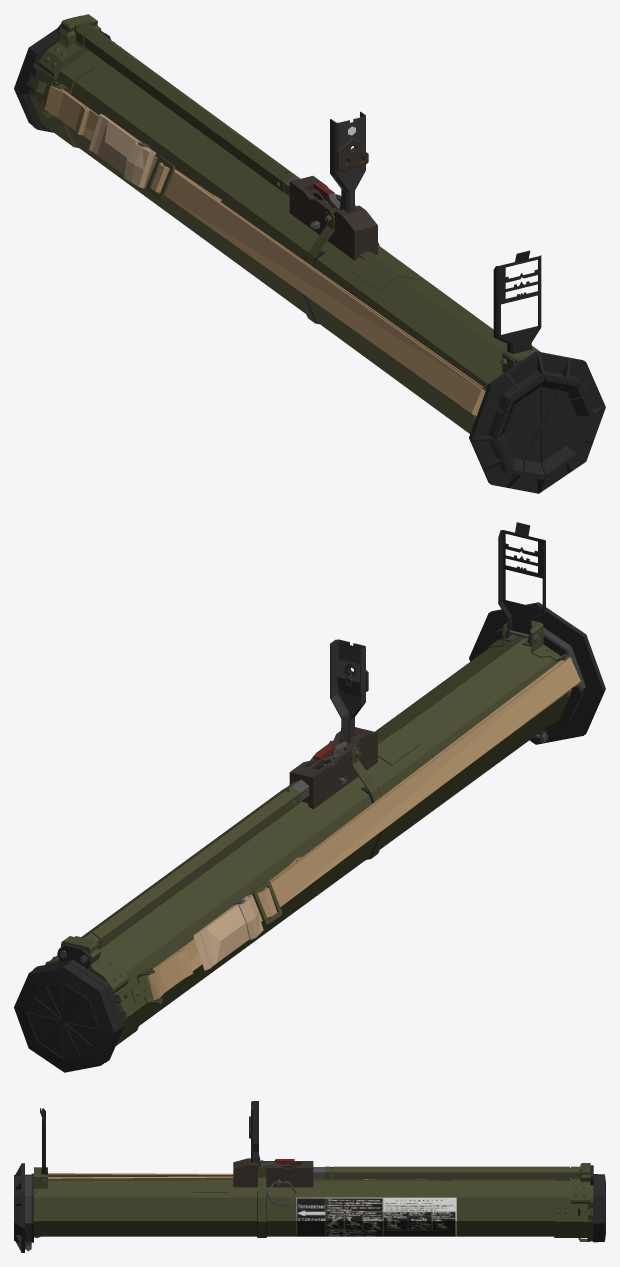
Rendered from golden_bazooka.glb.
3 views of the same model, one above another, from view 1: azimuth 30°, elevation 25°; view 2: azimuth 150°, elevation 25°; view 3: azimuth 270°, elevation 25° (orthographic). The views are drawn at different scales.
Parts seen in each view (by area): view 1: tube_1, sling_12, capfront_10, sightfront26_16, sightrear_6, frontcap_15, sighttemperature_5; view 2: tube_1, sling_12, frontcap_15, capfront_10, sightfront26_16, sightrear_6; view 3: tube_1, decal_0, capfront_10, sling_12, frontcap_15, sightrear_6, sightfront26_16.
Boxes of the visible parts, x1,y1,x2,y2 form: tube_1: (28,14,540,433); sling_12: (44,86,485,415); capfront_10: (469,351,605,493); sightfront26_16: (493,250,541,364); sightrear_6: (330,111,365,212); frontcap_15: (14,28,110,132); sighttemperature_5: (336,137,368,172); tube_1: (45,620,580,1045); sling_12: (146,657,580,1000); frontcap_15: (14,959,126,1072); capfront_10: (469,602,605,744); sightfront26_16: (498,522,545,643); sightrear_6: (330,639,365,745); tube_1: (34,1158,593,1241); decal_0: (296,1197,456,1236); capfront_10: (14,1163,33,1252); sling_12: (48,1173,553,1179); frontcap_15: (587,1174,605,1242); sightrear_6: (251,1101,260,1165); sightfront26_16: (40,1108,47,1174).
Bounding box in the file's own units: 0.1242 × 0.2094 × 0.7713.
Materials: 2 (2 with a texture image).
